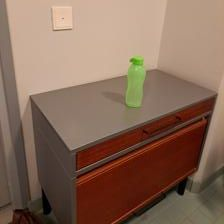bottle: (123, 55, 147, 109)
